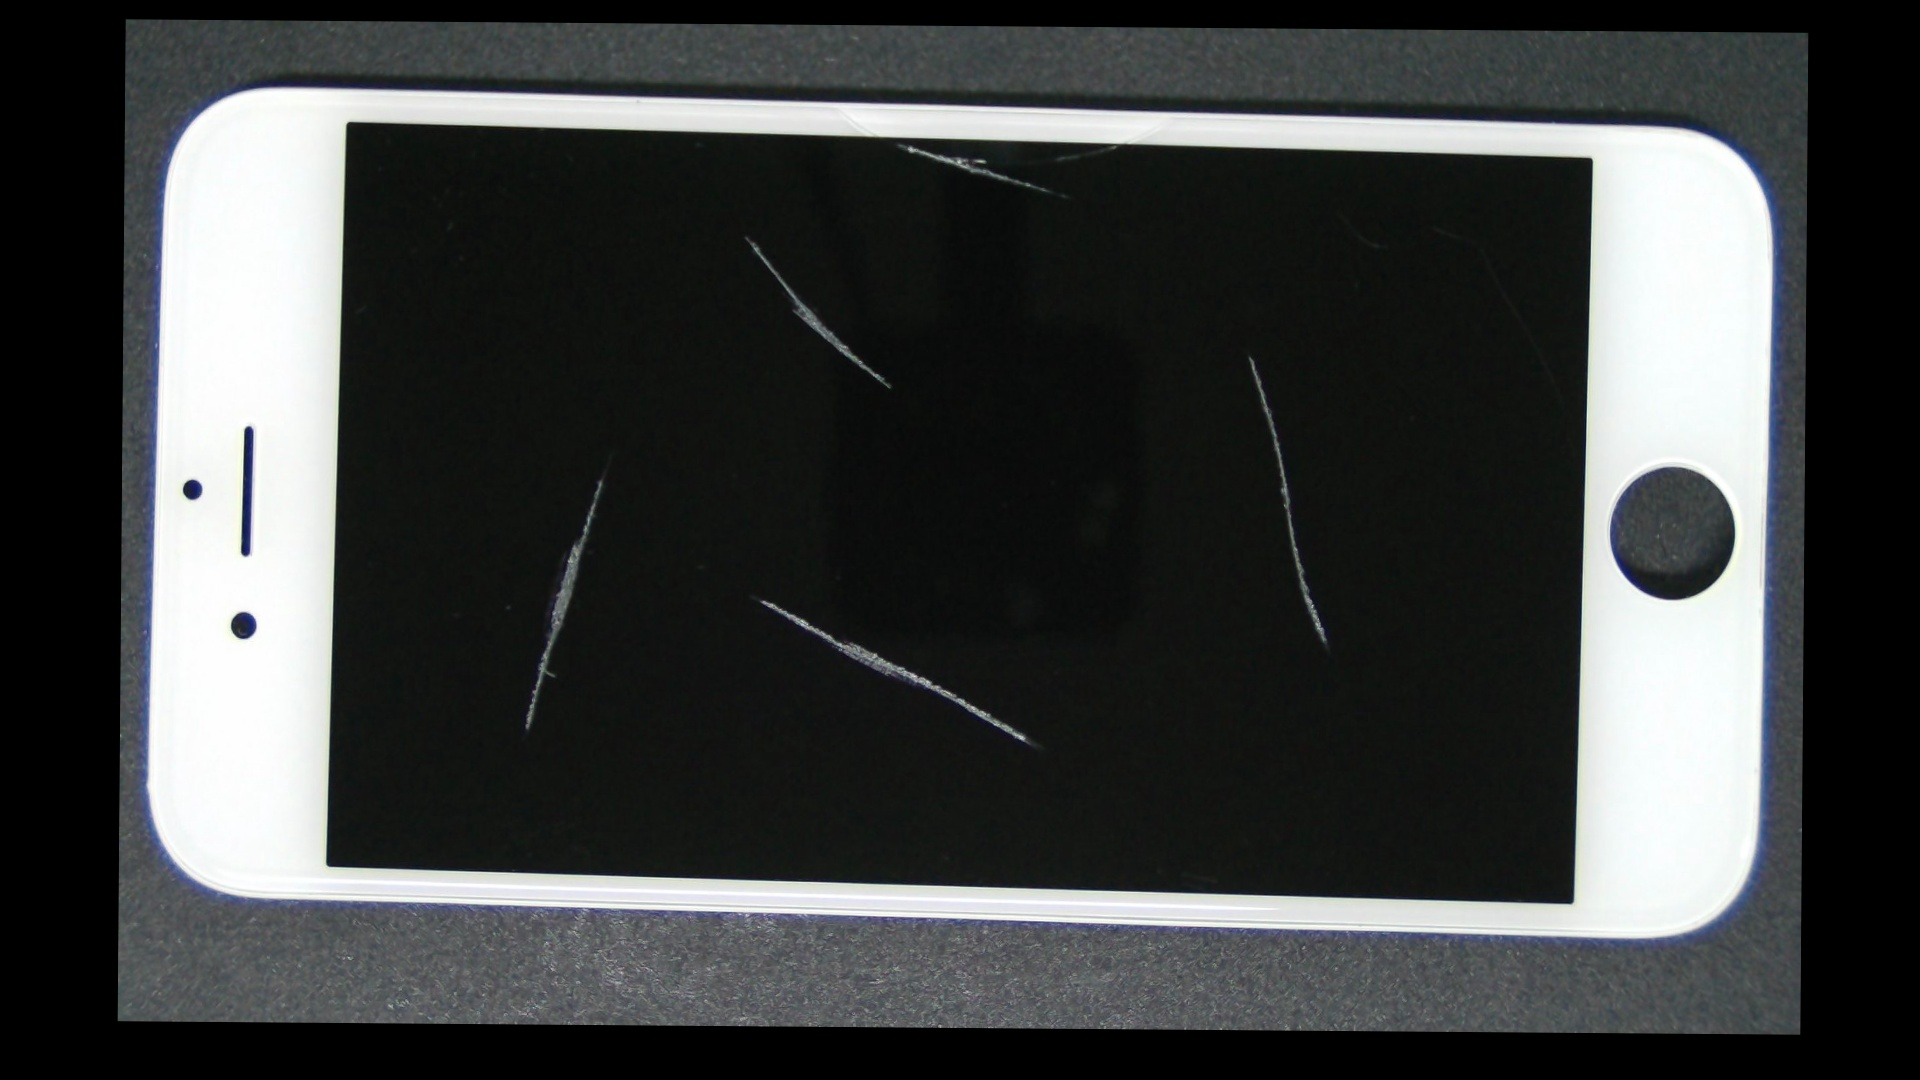oil: (686, 186, 1807, 524), (438, 307, 1079, 887), (361, 248, 844, 708), (435, 127, 1059, 344), (512, 80, 1286, 206)
